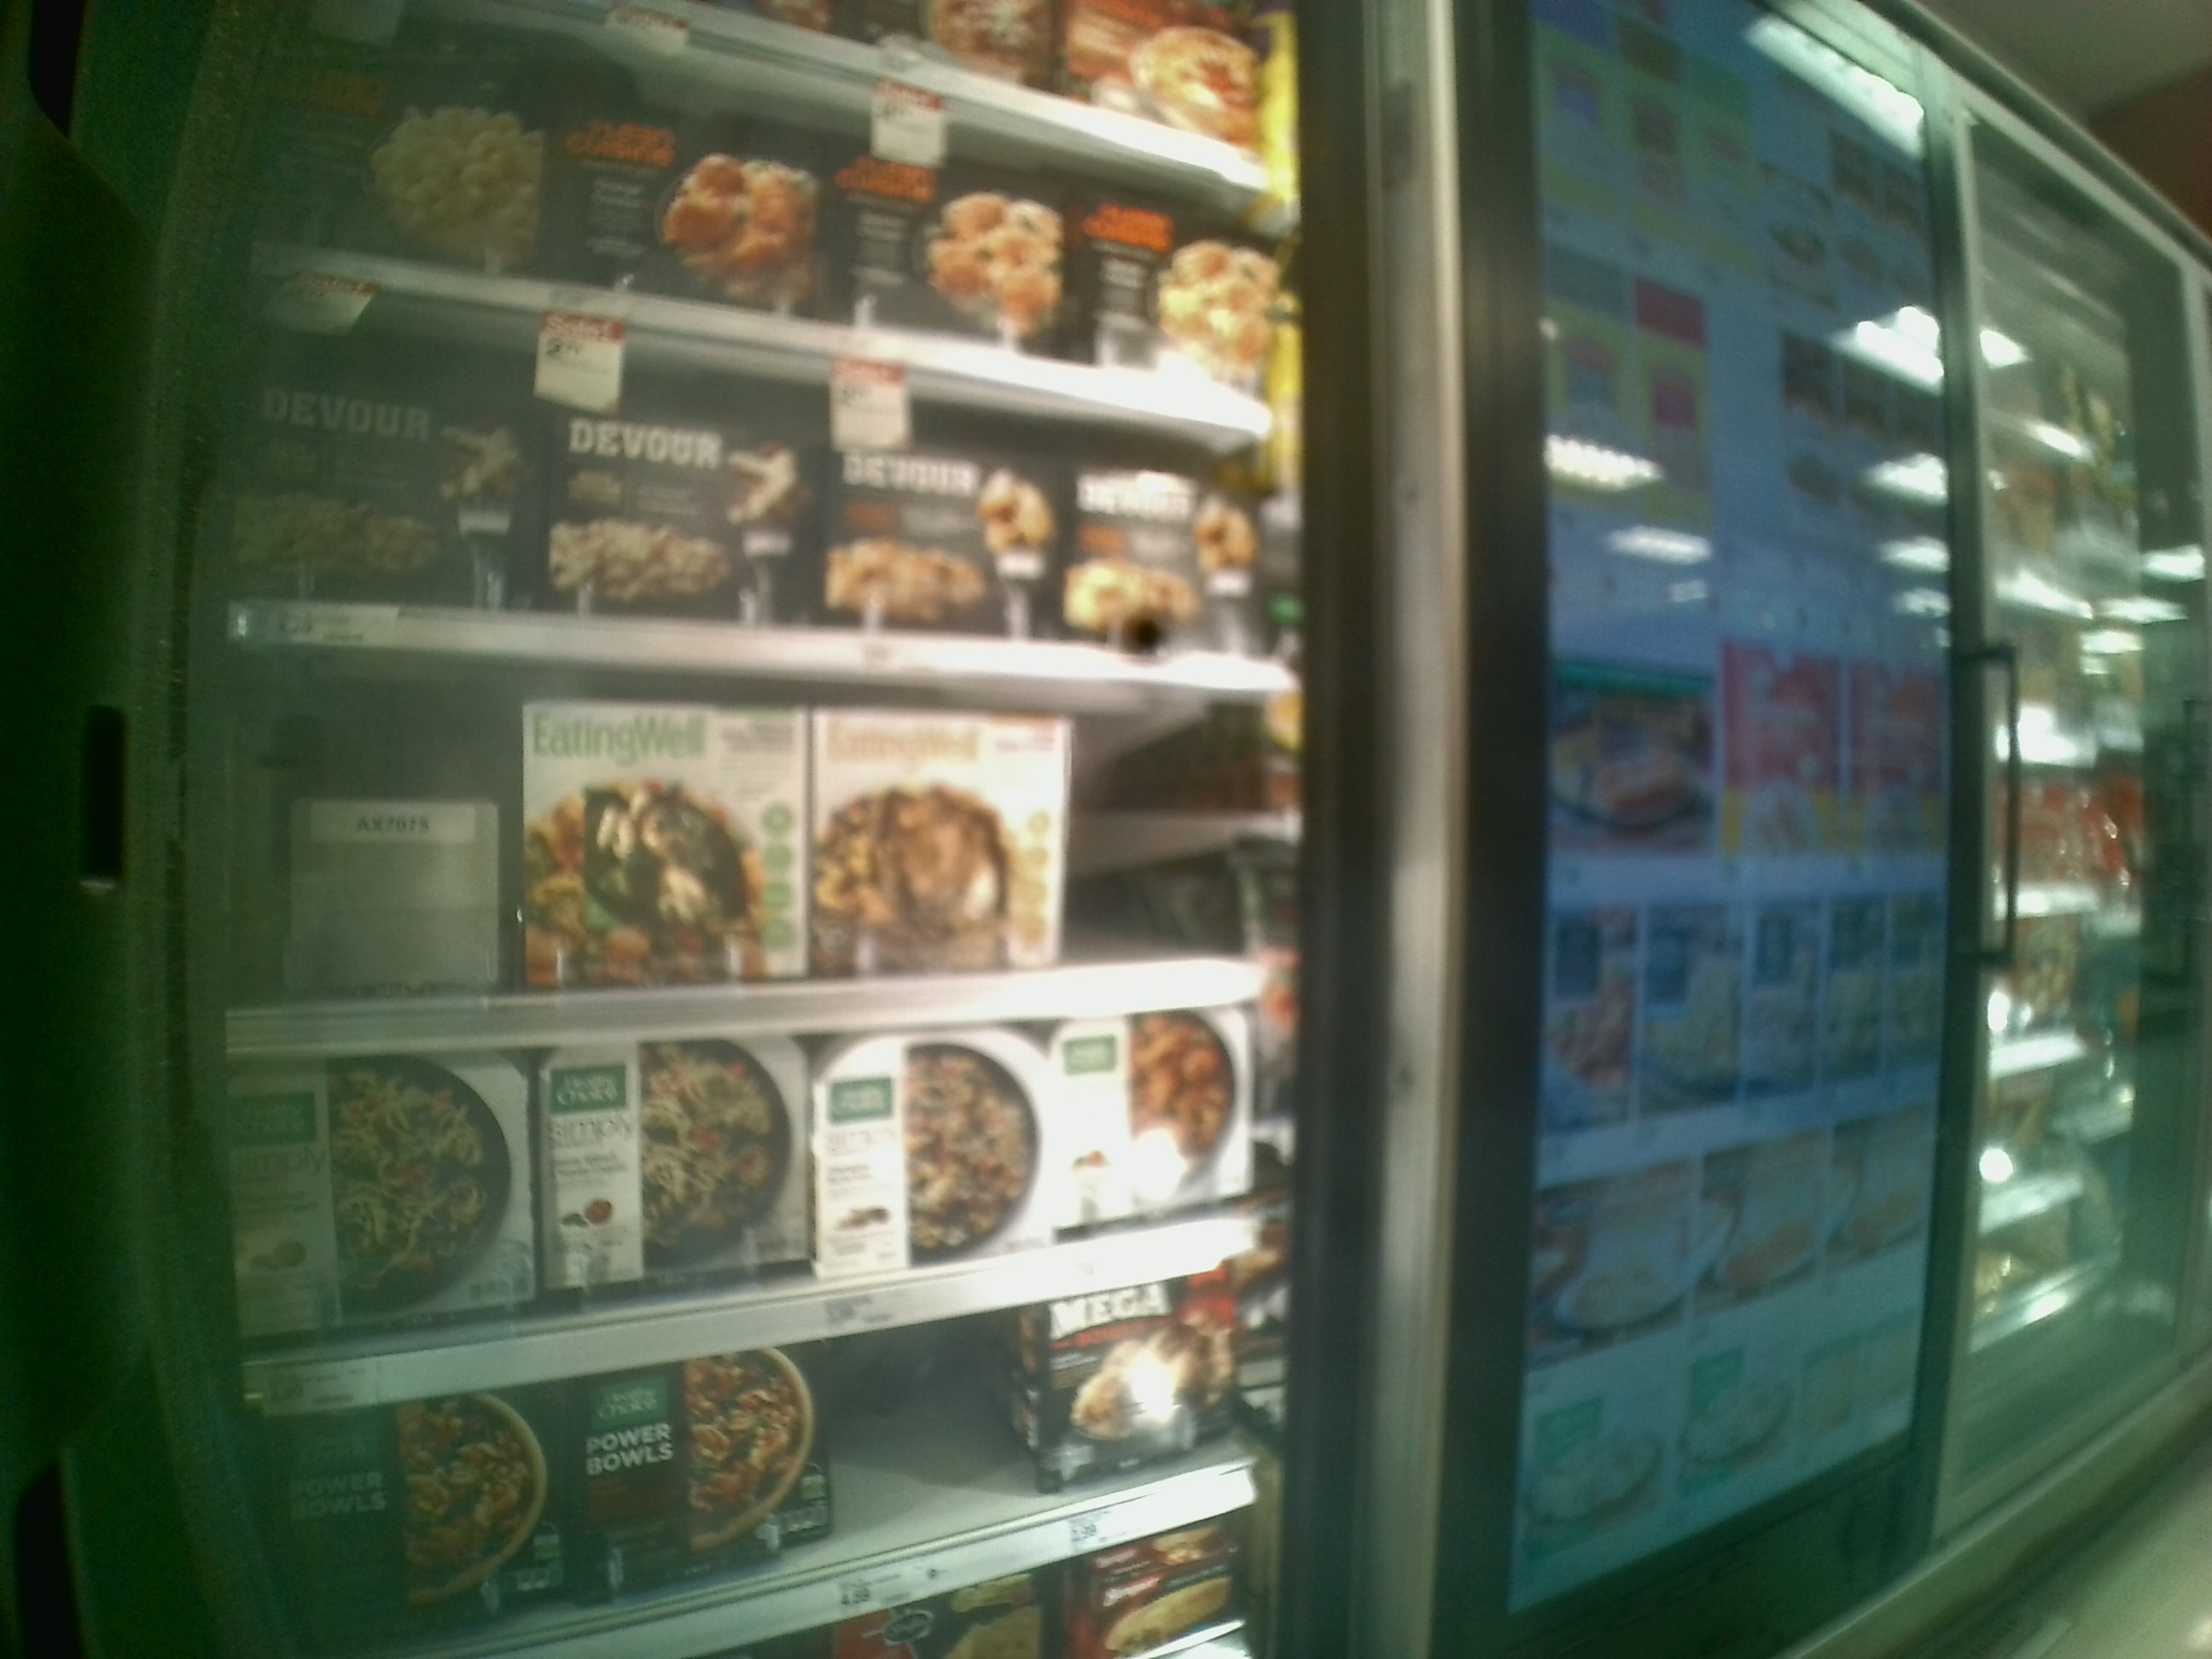shelf: (225, 999, 1303, 1422), (225, 645, 1301, 1066), (235, 274, 1301, 683)
